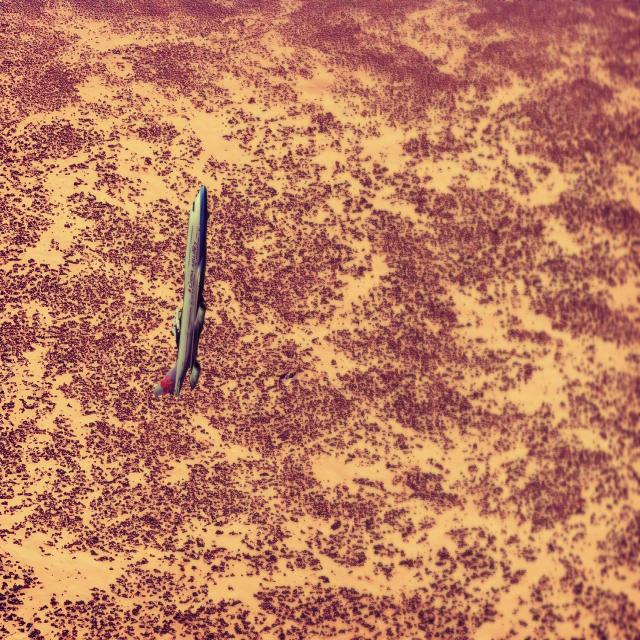airplane: (153, 184, 208, 399)
